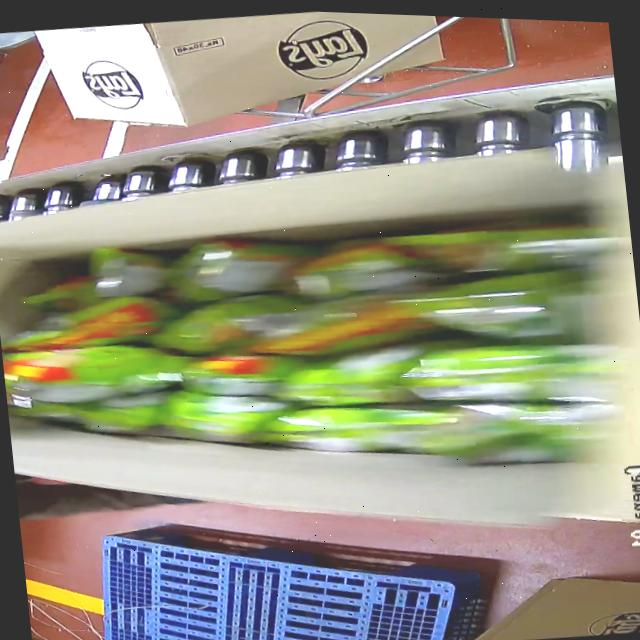YOGURT_HERB: (5, 184, 613, 506)
